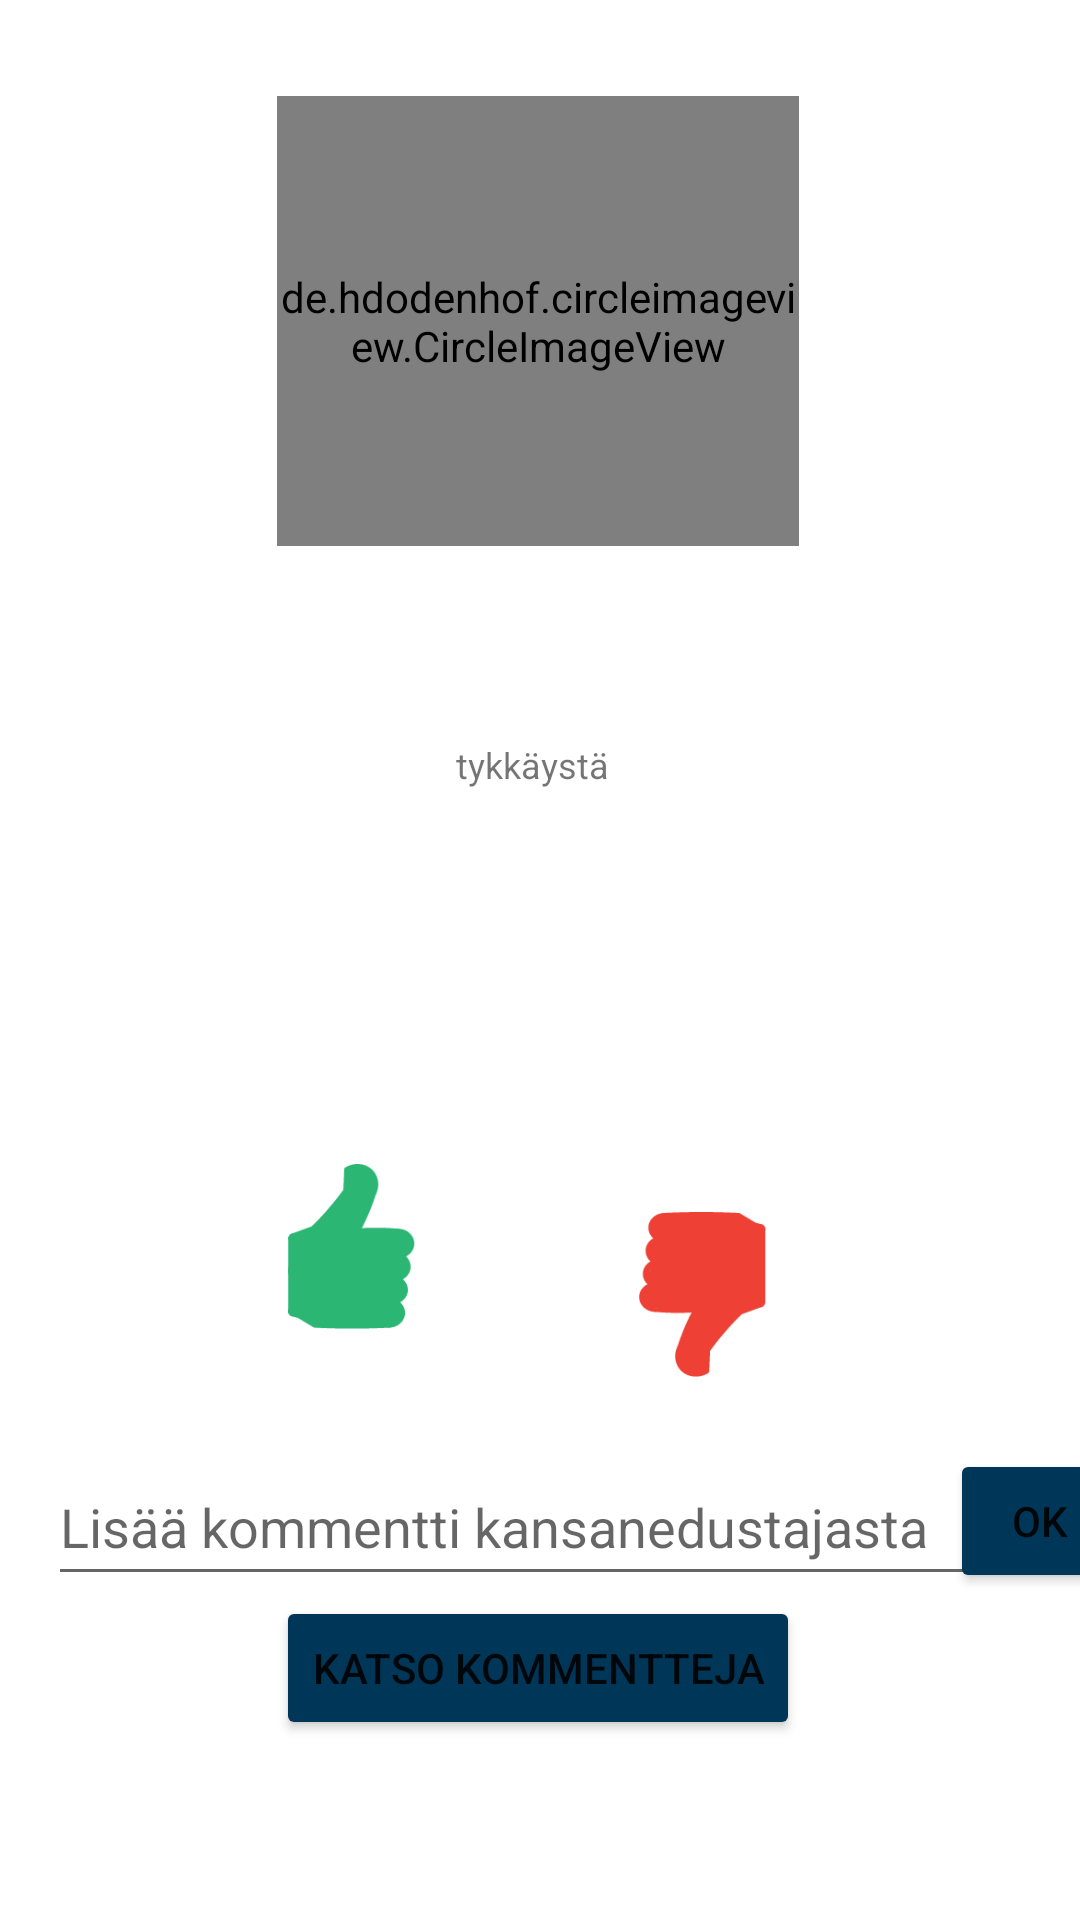

Screen size 1080*1920. Icon name, then its center in pixels as [x,y]:
dislikepeukku: [702,1294]
likepeukku: [351,1246]
